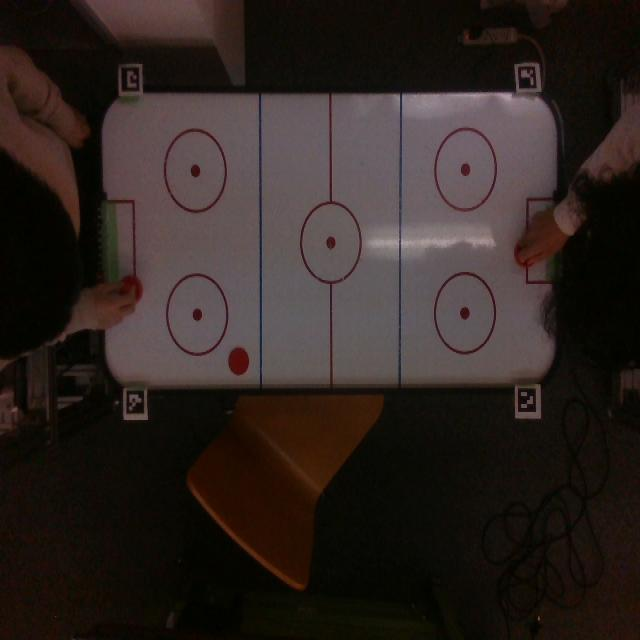puck: (228, 346, 249, 376)
